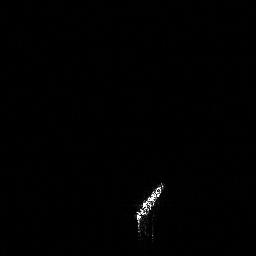ship: (131, 178, 168, 241)
